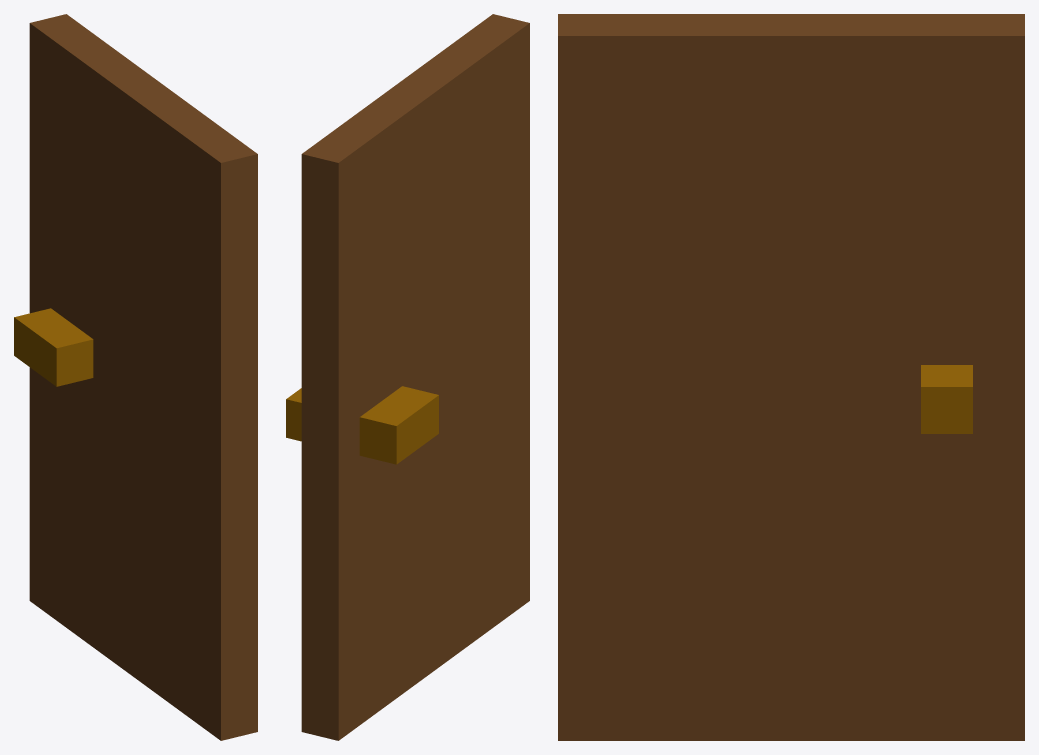
File: Door B 1.obj
3 views of the same model, side by side, from view 1: azimuth 30°, elevation 25°; view 2: azimuth 150°, elevation 25°; view 3: azimuth 270°, elevation 25° (orthographic). The views are drawn at different scales.
Visible parts, largest first — view 1: Door B 1; view 2: Door B 1; view 3: Door B 1.
Boxes of the visible parts, bbox=[...] form: Door B 1: bbox=[14, 14, 257, 740]; Door B 1: bbox=[286, 14, 529, 740]; Door B 1: bbox=[558, 14, 1024, 740].
Size of the model in its own units: 3 by 15 by 9.
